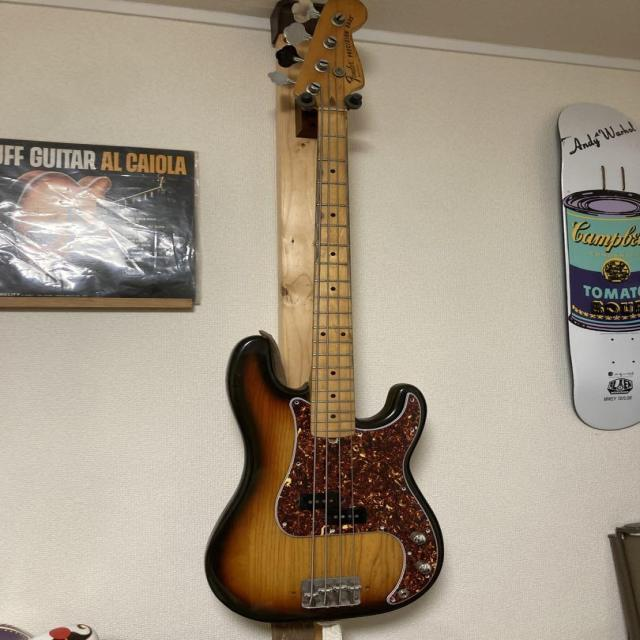bass: (205, 0, 442, 621)
